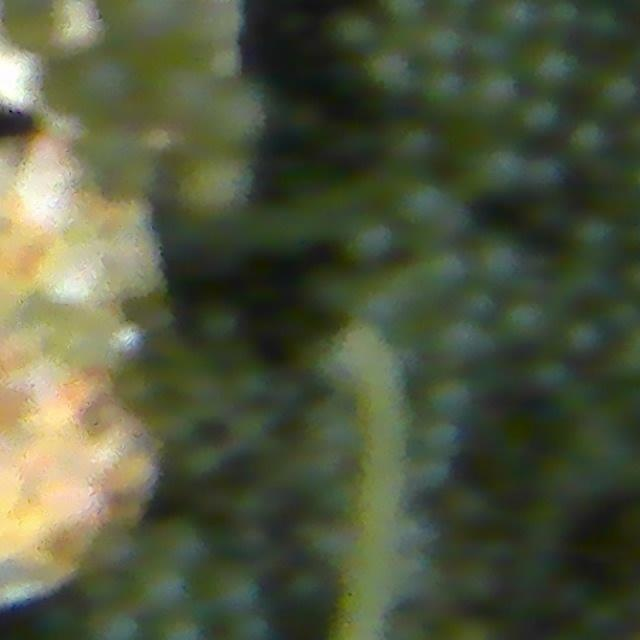SeaGrape: (64, 44, 144, 122), (177, 148, 252, 223), (201, 78, 268, 150), (432, 315, 493, 369), (469, 142, 527, 196), (525, 43, 584, 96), (153, 517, 208, 572), (475, 0, 542, 44), (469, 69, 524, 122), (207, 563, 261, 615), (507, 90, 566, 137), (417, 65, 470, 117), (344, 215, 397, 267), (474, 238, 524, 290), (500, 298, 554, 346), (369, 46, 416, 101), (137, 561, 187, 612), (417, 20, 465, 66), (326, 17, 382, 55), (394, 183, 440, 228), (85, 603, 139, 640), (592, 73, 636, 116), (566, 118, 607, 162), (422, 254, 462, 294)
